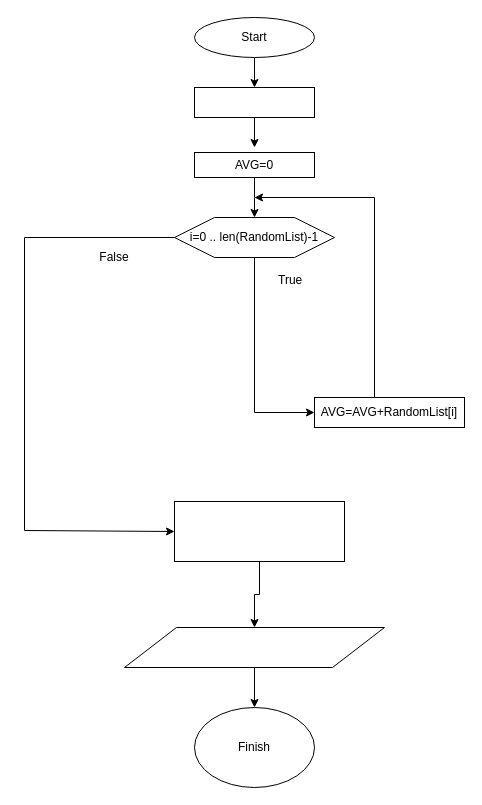
This 482x805 diagram has some shape labels left out. Here are the shapes that lost their labels. From the top down, the centre of each, then its label:
point 254,102: RandomList[]
point 259,531: AVG=AVG/(len(RandomList)
point 254,647: Print(str(AVG))
